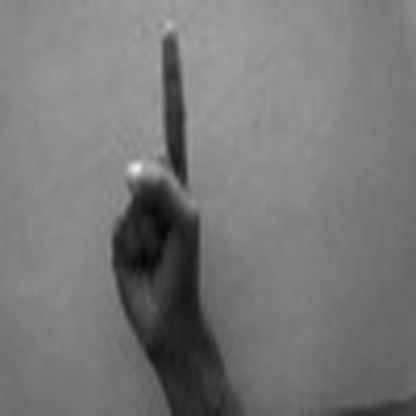d: (96, 17, 219, 344)
